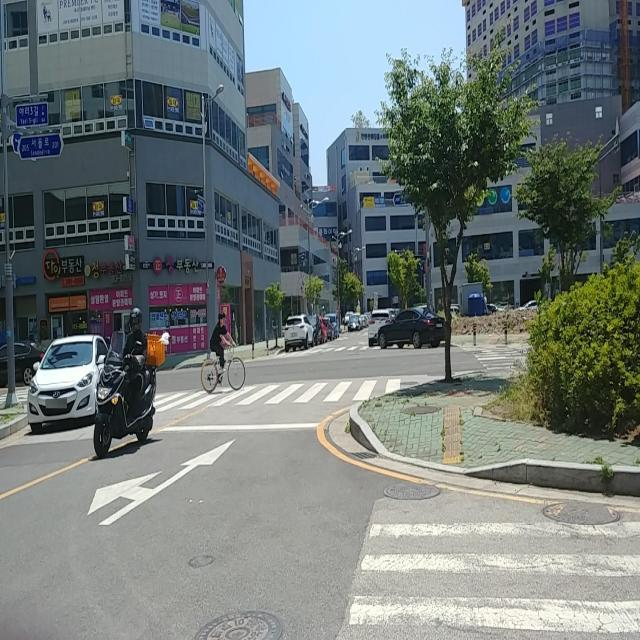횡단보도: (346, 518, 640, 636), (158, 376, 402, 406), (458, 341, 534, 376)
